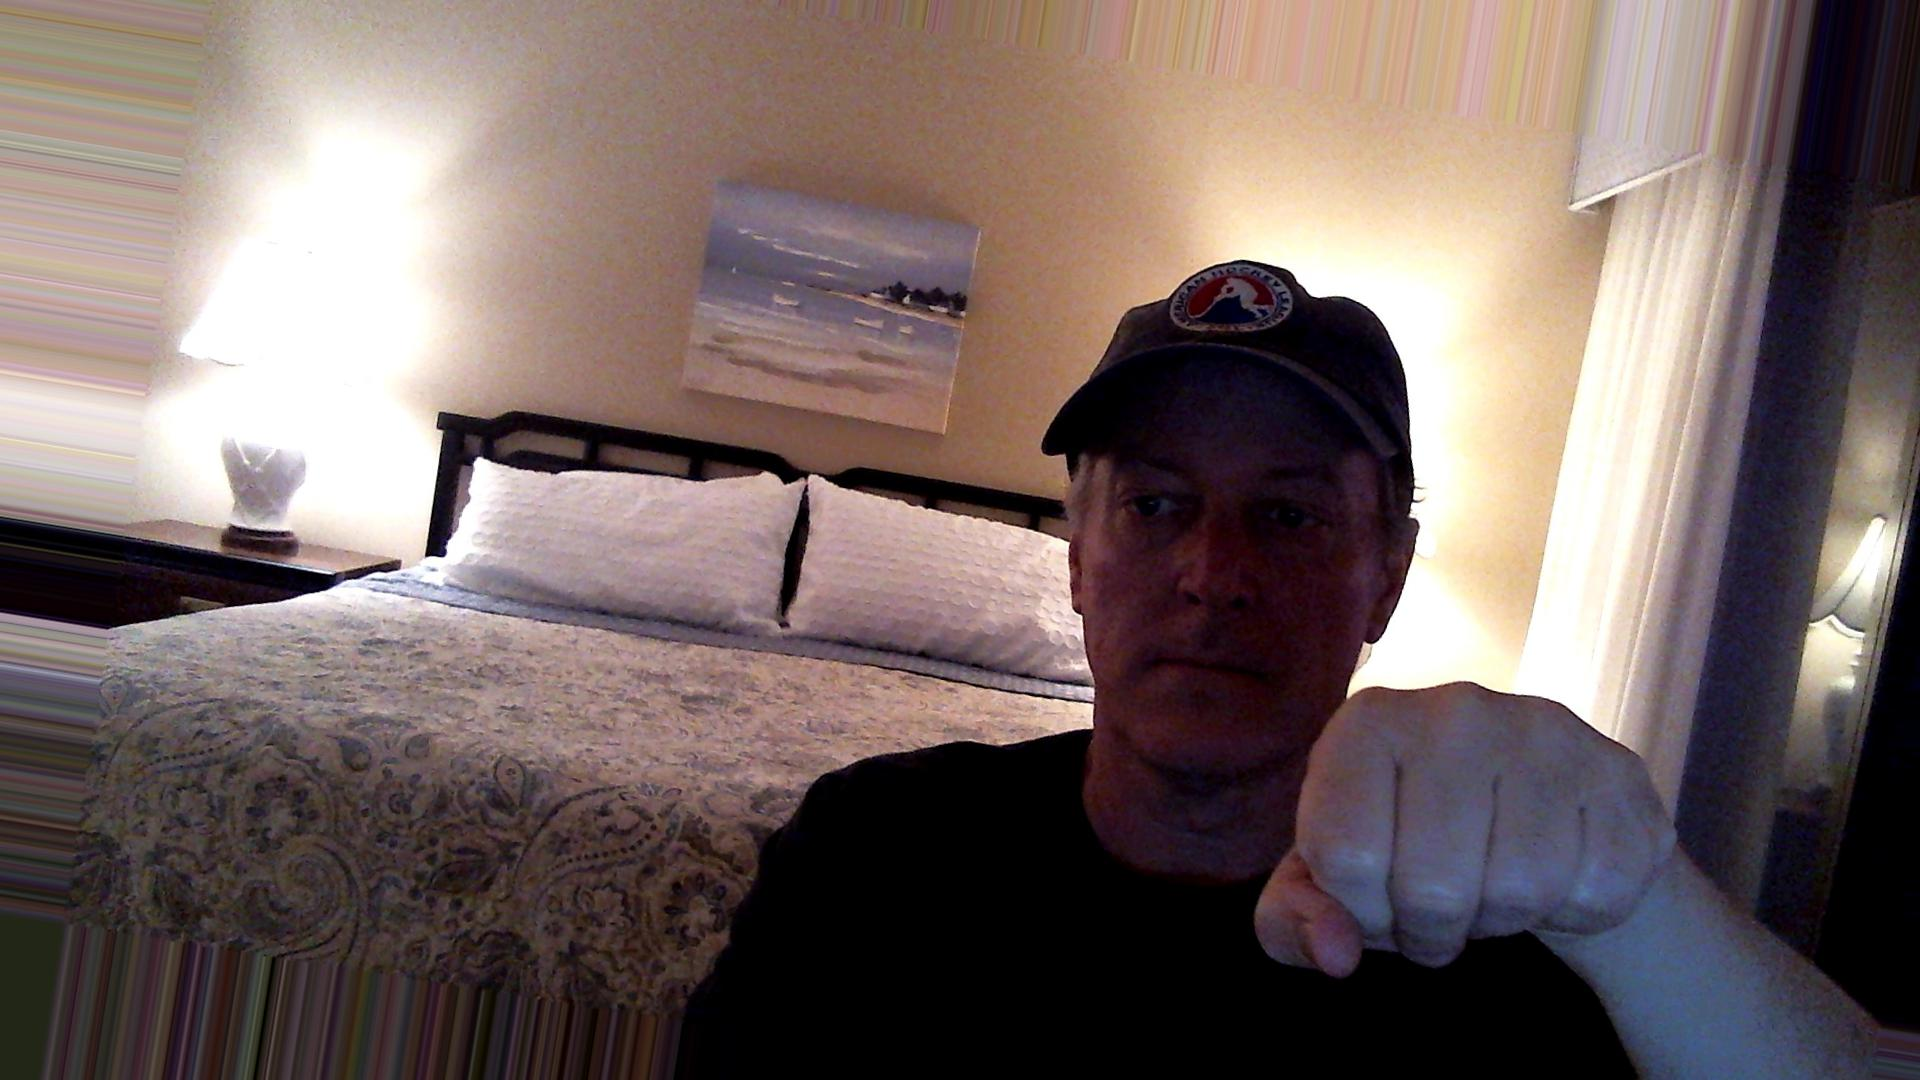Yes: (1247, 662, 1691, 998)
